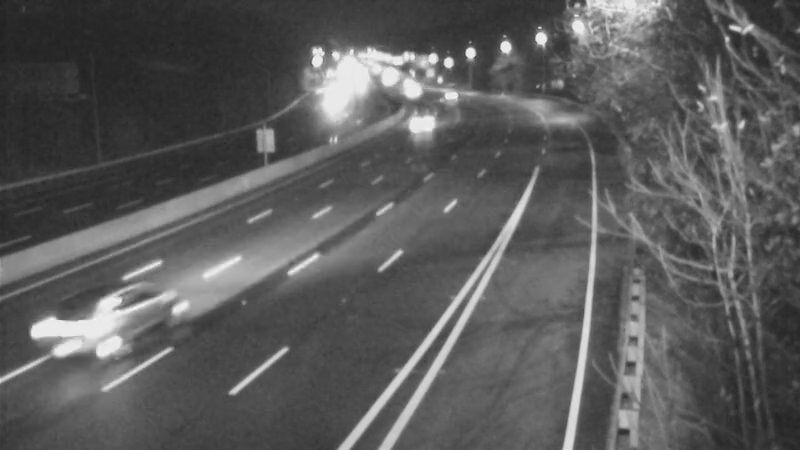vehicle: (18, 271, 128, 381), (388, 66, 438, 116), (421, 68, 471, 118), (395, 97, 445, 147)
